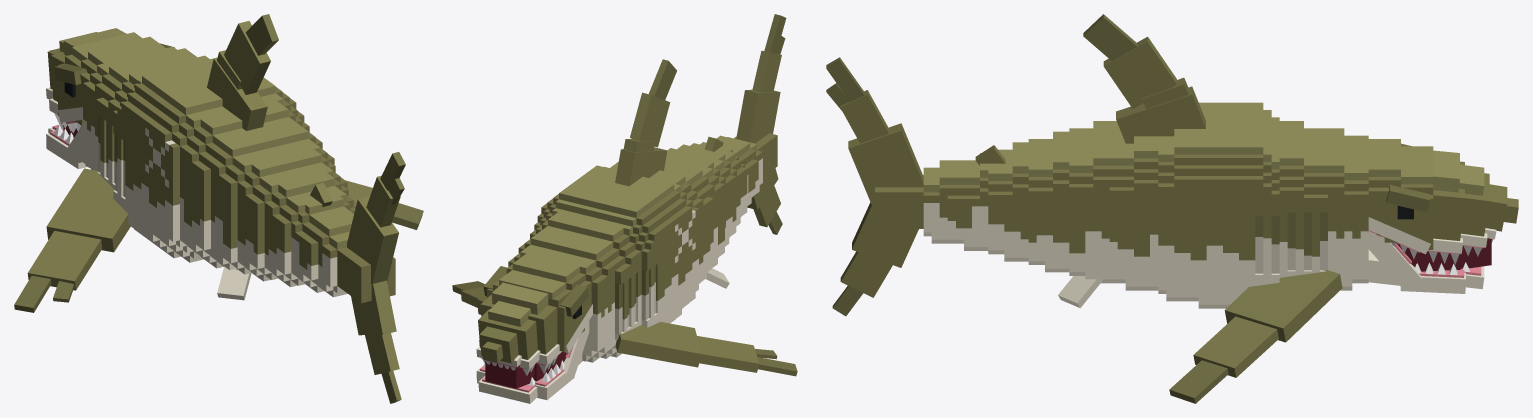
Rendered from GinsuShark.obj.
3 renders of one model, left to right at view 1: azimuth 30°, elevation 25°; view 2: azimuth 150°, elevation 25°; view 3: azimuth 270°, elevation 25°, orthographic. The views are drawn at different scales.
Visible parts, largest first — view 1: S1, S2, Tail, S3, Head, S4, S5, S6, Jaw; view 2: S1, Head, S2, Tail, S3, Jaw, S4, S5, S6; view 3: S1, S2, Head, Tail, S3, S4, S5, Jaw, S6.
Part boxes in pixels (x1,y1,x2,y2): S1: (14,54,423,312); S2: (145,14,309,268); Tail: (337,152,405,403); S3: (200,122,334,300); Head: (46,28,192,170); S4: (241,152,348,283); S5: (272,183,356,292); S6: (303,212,353,297); Jaw: (46,123,89,169); S1: (452,178,797,376); Head: (476,233,614,388); S2: (580,59,710,323); Tail: (734,14,786,234); S3: (664,154,729,288); Jaw: (476,321,589,403); S4: (667,144,736,246); S5: (690,136,751,225); S6: (716,135,762,197); S1: (1169,102,1342,403); S2: (1083,14,1214,308); Head: (1328,128,1518,290); Tail: (826,57,923,316); S3: (1058,121,1117,308); S4: (1012,131,1060,272); S5: (964,145,1012,261); Jaw: (1368,230,1484,293); S6: (923,160,963,243).
Size of the model in its own units: 29.31 by 20.43 by 42.79.
Materials: 1 (1 with a texture image).
